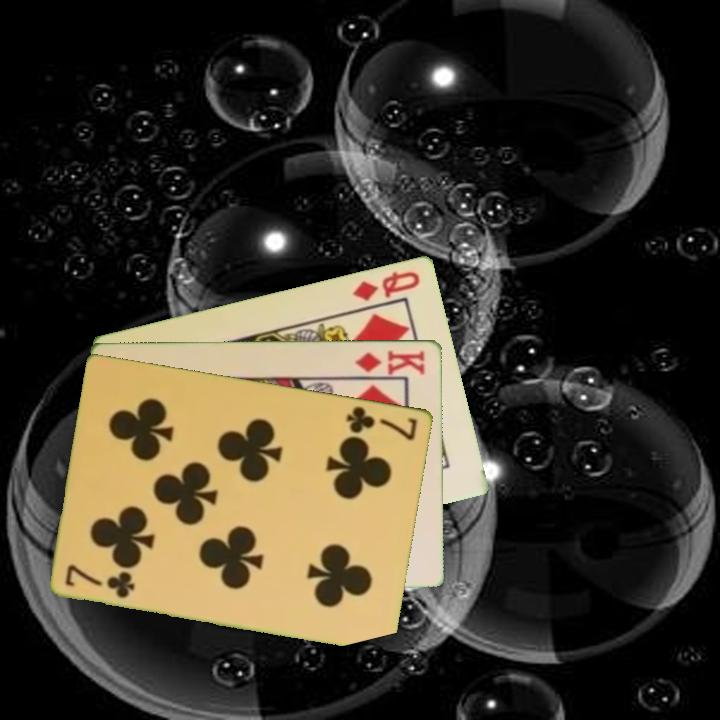7c: (343, 402, 421, 443), (61, 561, 138, 601)
Kd: (352, 346, 428, 377)
Qd: (349, 267, 423, 303)
